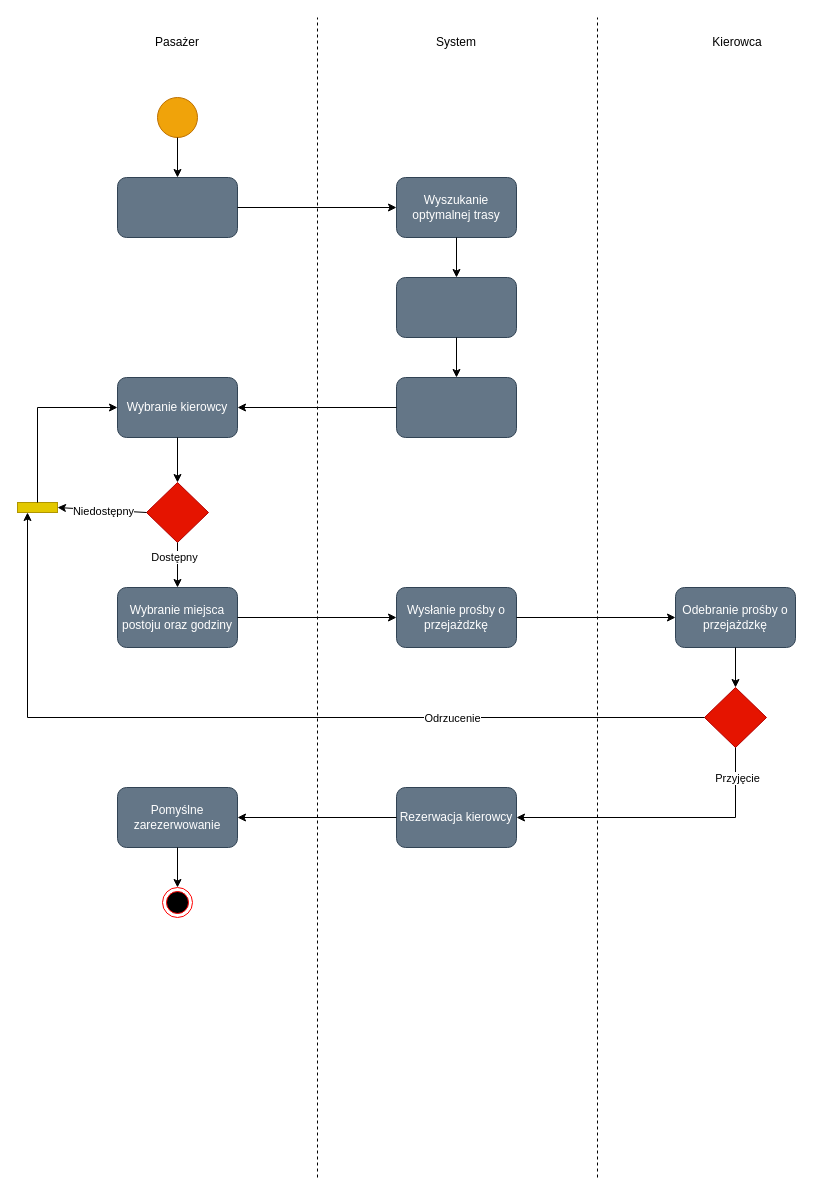
The diagram is 815 pixels wide and 1196 high, and some of its shapes have lost their labels. Each missing label, with the box of its shape:
Wprowadzenie celu początkowego i docelowego: (116, 176, 238, 238)
Wyszukanie kierowców jadących tą trasą: (396, 276, 516, 338)
Wyświetlenie listy kierowców: (396, 376, 516, 438)
